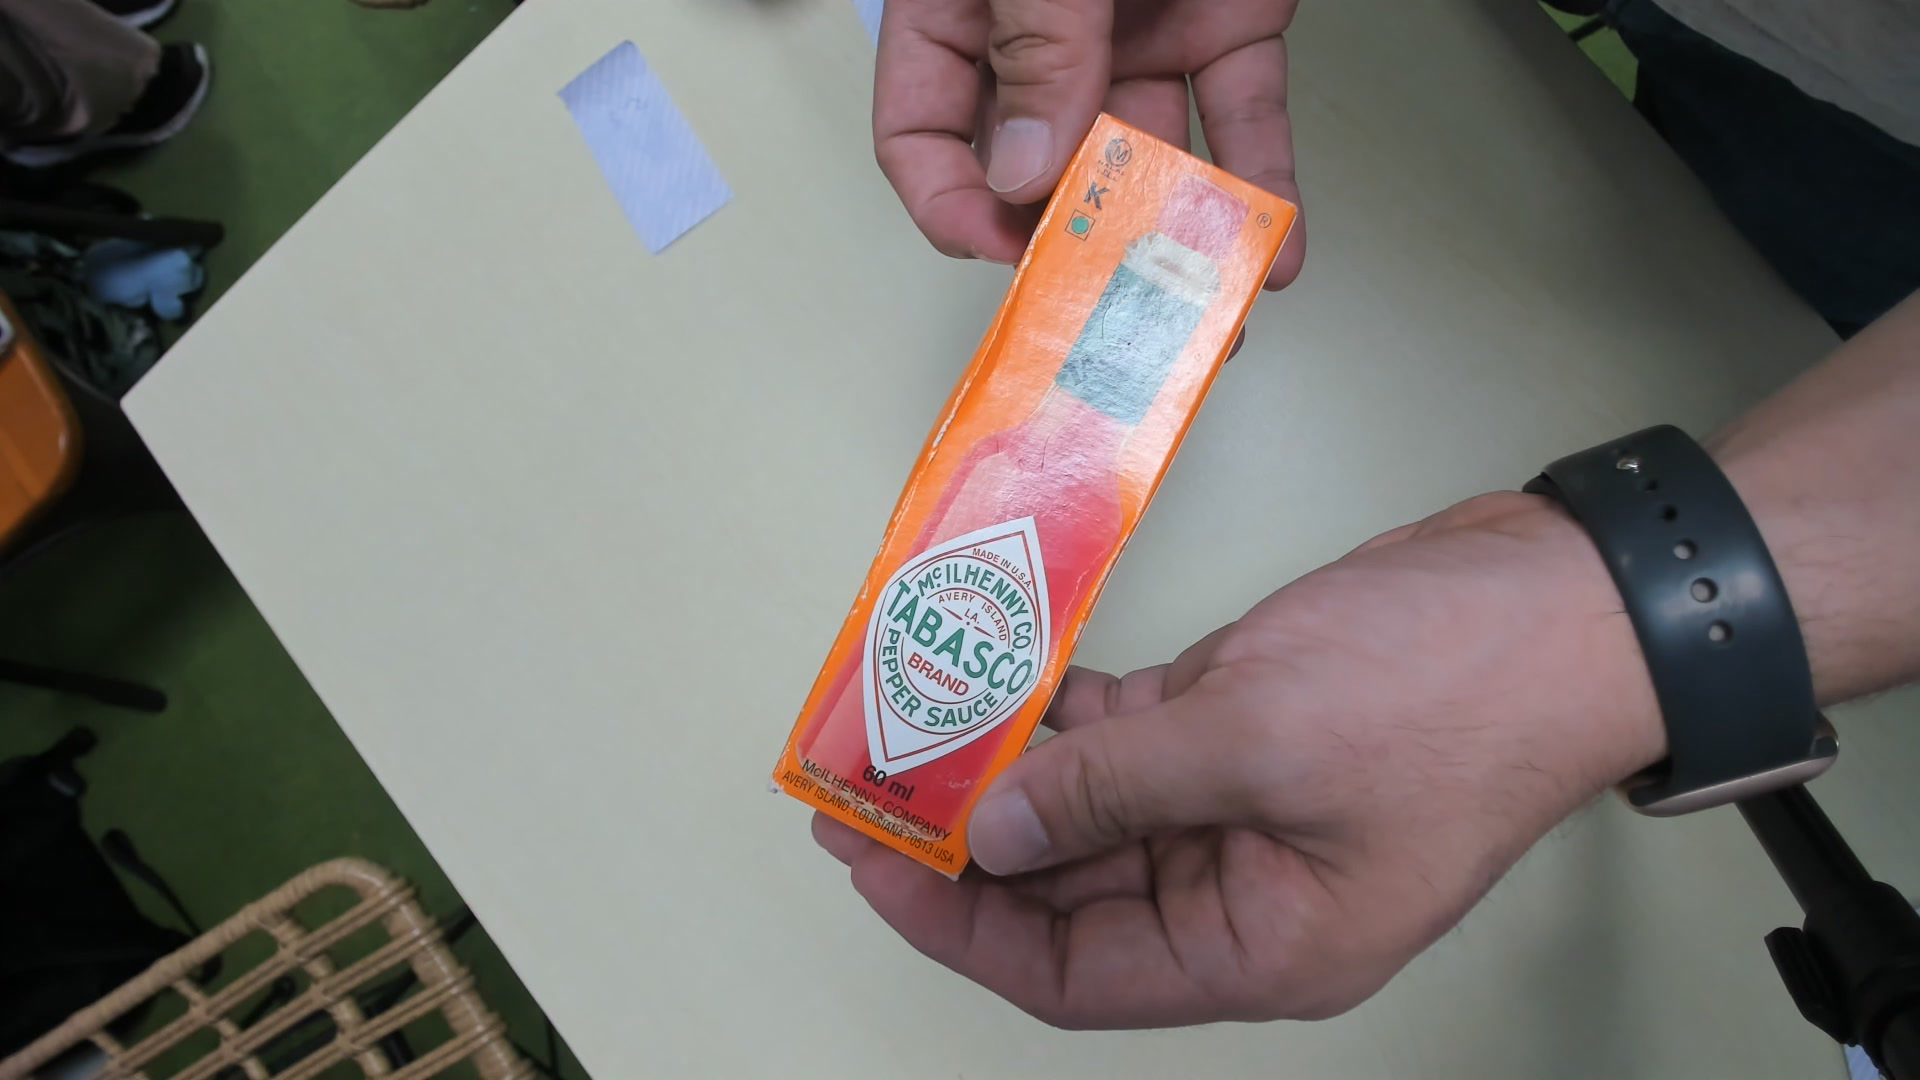KetchupChillSauce_0-99g_NonHalal_NonHealthy: (775, 105, 1296, 887)
